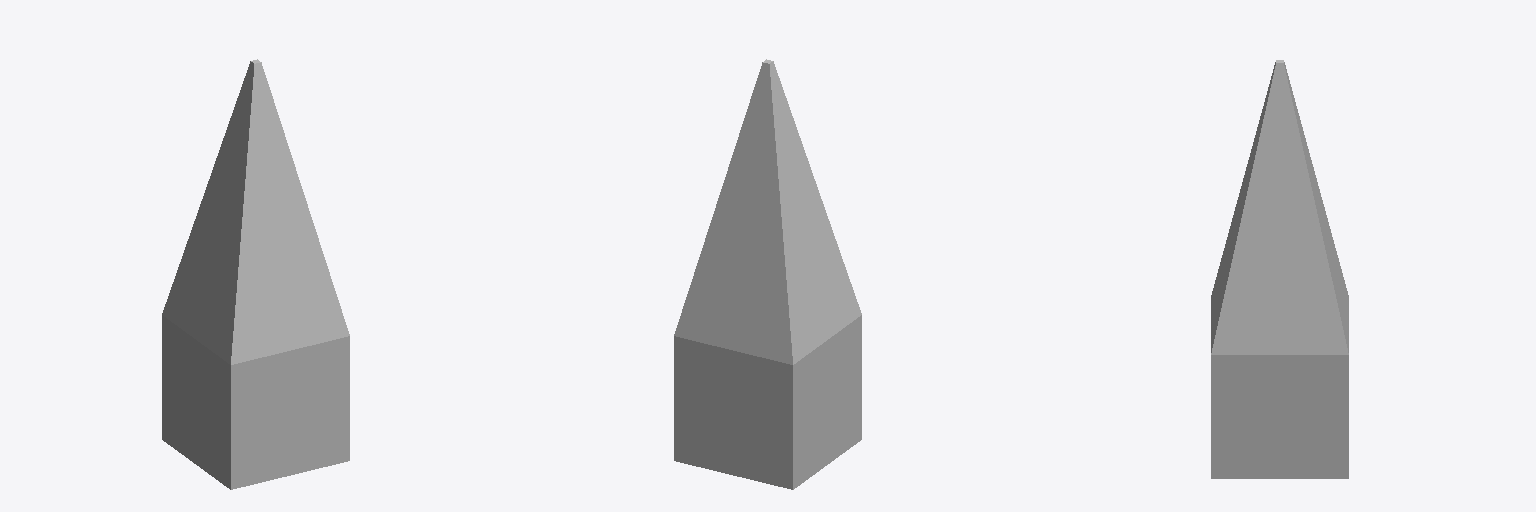
The model's file is cubetri.obj.
3 views of the same model, side by side, from view 1: azimuth 30°, elevation 25°; view 2: azimuth 150°, elevation 25°; view 3: azimuth 270°, elevation 25° (orthographic).
Visible parts, largest first — view 1: pCube1; view 2: pCube1; view 3: pCube1.
Boxes of the visible parts, x1,y1,x2,y2 form: pCube1: [162, 59, 349, 489]; pCube1: [674, 59, 861, 489]; pCube1: [1211, 60, 1348, 478].
Bounding box in the file's own units: 1 × 3.11 × 1.